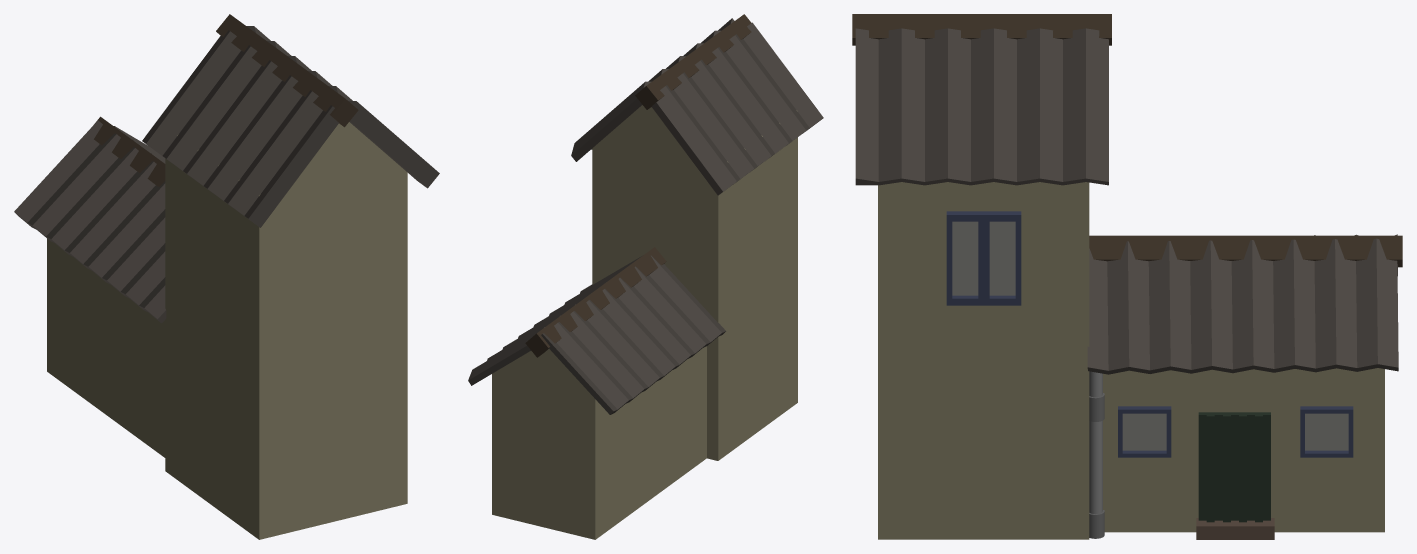
File: HOUSE 1 BROWN ROOF.fbx
3 renders of one model, left to right at view 1: azimuth 30°, elevation 25°; view 2: azimuth 150°, elevation 25°; view 3: azimuth 270°, elevation 25°, orthographic. The views are drawn at different scales.
Parts seen in each view (by area): view 1: pCube1, pCube4, pCube6, pCube2, pCube11, pCube3, pCube12; view 2: pCube1, pCube2, pCube4, pCube6, pCube12, pCube11, pCube5, pCube3; view 3: pCube1, pCube3, pCube5, pCube2, pCube7, pCube10, pCube12, pCube11, pCube8, pCube9, pCylinder1, pCube13.
Boxes of the visible parts, x1=… form: pCube1: x1=165, y1=122, x2=407, y2=539; pCube4: x1=142, y1=30, x2=338, y2=227; pCube6: x1=14, y1=120, x2=166, y2=323; pCube2: x1=47, y1=238, x2=165, y2=457; pCube11: x1=216, y1=14, x2=358, y2=127; pCube3: x1=246, y1=26, x2=439, y2=188; pCube12: x1=94, y1=116, x2=165, y2=186; pCube1: x1=592, y1=105, x2=797, y2=460; pCube2: x1=492, y1=346, x2=706, y2=539; pCube4: x1=651, y1=22, x2=823, y2=195; pCube6: x1=541, y1=255, x2=725, y2=414; pCube12: x1=525, y1=247, x2=666, y2=357; pCube11: x1=635, y1=14, x2=751, y2=109; pCube5: x1=468, y1=256, x2=641, y2=385; pCube3: x1=571, y1=18, x2=734, y2=161; pCube1: x1=878, y1=182, x2=1089, y2=539; pCube3: x1=855, y1=28, x2=1108, y2=185; pCube5: x1=1087, y1=238, x2=1398, y2=374; pCube2: x1=1103, y1=368, x2=1384, y2=532; pCube7: x1=1198, y1=412, x2=1270, y2=522; pCube10: x1=946, y1=211, x2=1021, y2=305; pCube12: x1=1089, y1=235, x2=1402, y2=267; pCube11: x1=852, y1=14, x2=1111, y2=45; pCube8: x1=1118, y1=406, x2=1171, y2=457; pCube9: x1=1300, y1=406, x2=1353, y2=457; pCylinder1: x1=1089, y1=371, x2=1102, y2=514; pCube13: x1=1196, y1=518, x2=1274, y2=539.
Size of the model in its own units: 8.27 by 17.86 by 18.32.
